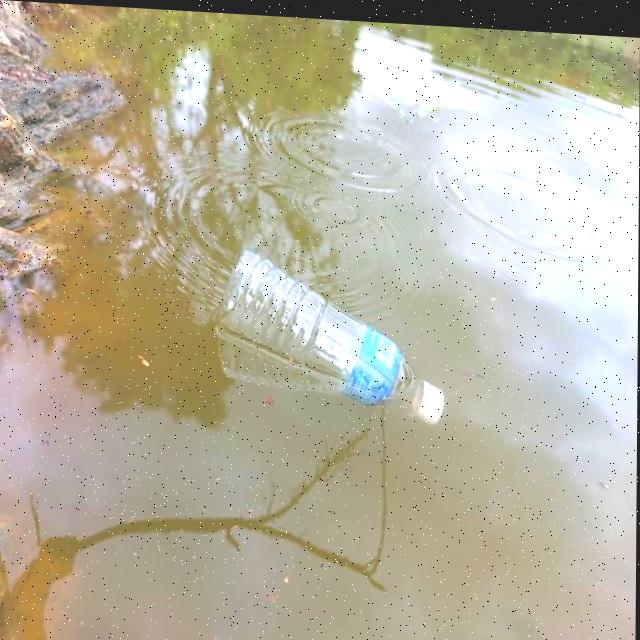waterbottle: (219, 238, 466, 436)
